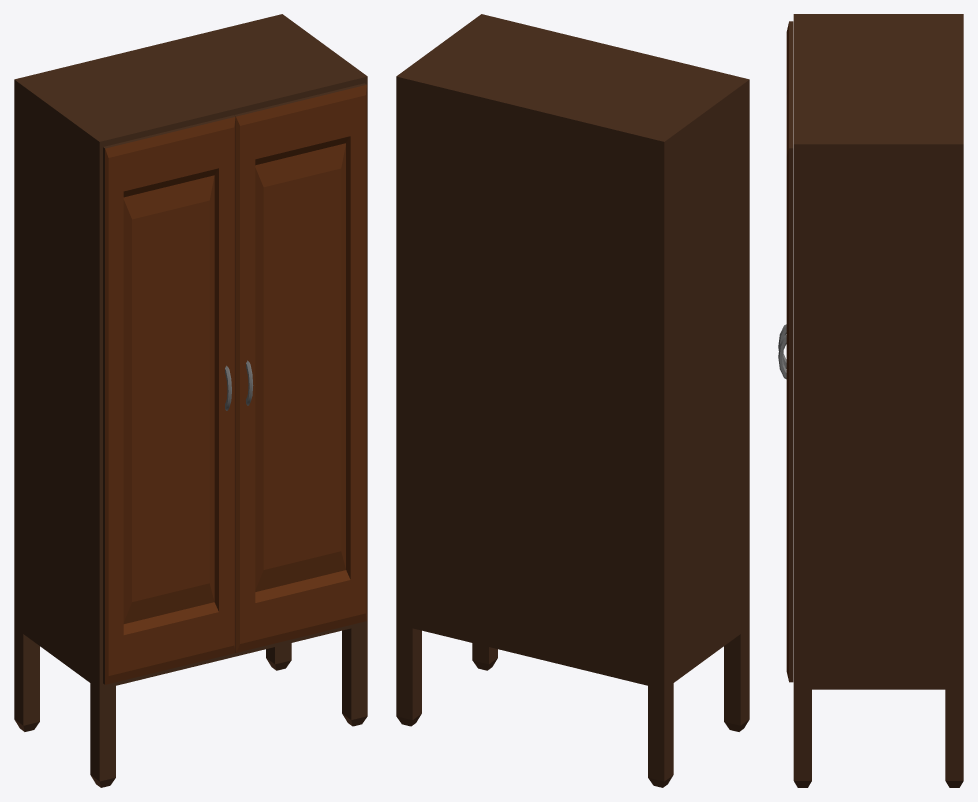
File: Cabinet.fbx
3 renders of one model, left to right at view 1: azimuth 30°, elevation 25°; view 2: azimuth 150°, elevation 25°; view 3: azimuth 270°, elevation 25°, orthographic.
Parts seen in each view (by area): view 1: Cabinet Door, Cabinet Base; view 2: Cabinet Base; view 3: Cabinet Base, Cabinet Door, Cabinet Handle.
Boxes of the visible parts, bbox=[...] form: Cabinet Door: bbox=[105, 84, 366, 684]; Cabinet Base: bbox=[14, 14, 367, 787]; Cabinet Base: bbox=[396, 14, 749, 787]; Cabinet Base: bbox=[789, 14, 963, 787]; Cabinet Door: bbox=[786, 23, 788, 680]; Cabinet Handle: bbox=[778, 324, 786, 379].
Bounding box in the file's own units: 49.59 × 115 × 29.83.
